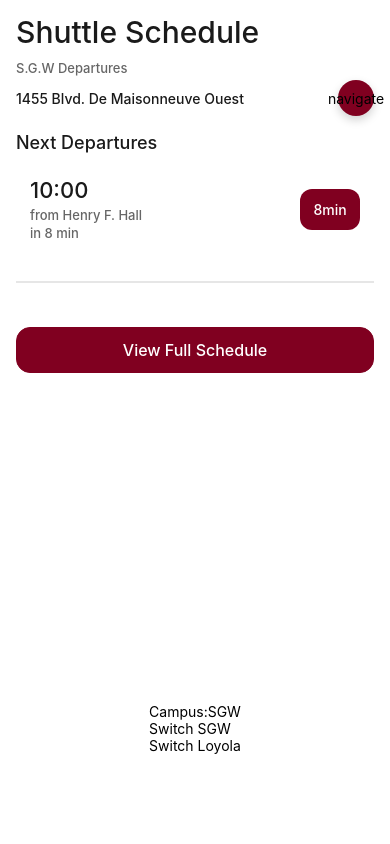
Scenario: ShuttleInfoPage › toggles full schedule view and can go back
Click the text "View Full Schedule": x=195, y=350 x1=123 y1=340 x2=267 y2=360
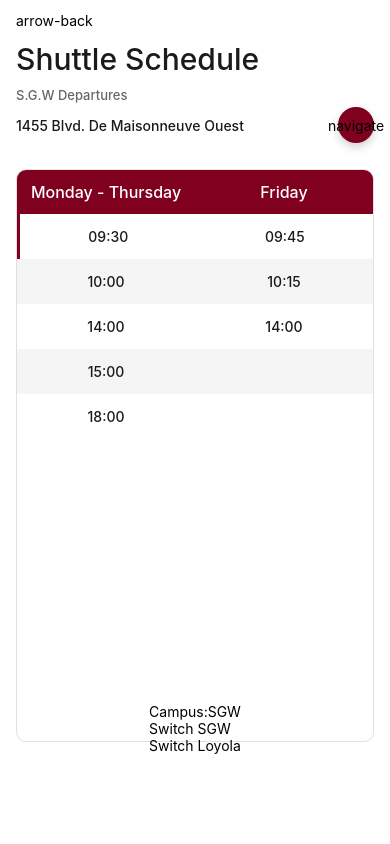
Now the text "Monday - Thursday" is shown, box x1=31 y1=182 x2=181 y2=202
Now the text "Friday" is shown, box x1=260 y1=182 x2=308 y2=202
Now the text "arrow-back" is shown
Click the text "arrow-back": x=54, y=20 x1=16 y1=12 x2=93 y2=29
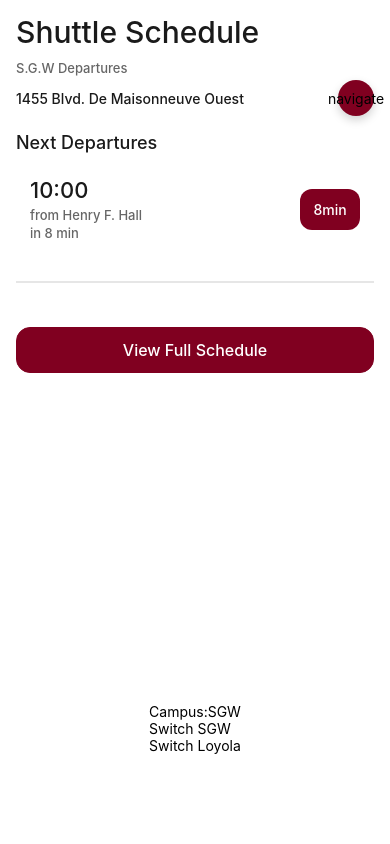
Now the text "Next Departures" is shown, box x1=16 y1=132 x2=157 y2=153
